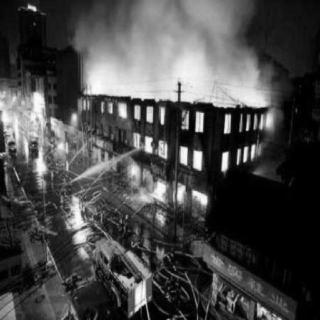Fire: (77, 48, 275, 226), (0, 86, 57, 166)
Smoke: (81, 4, 261, 64)
